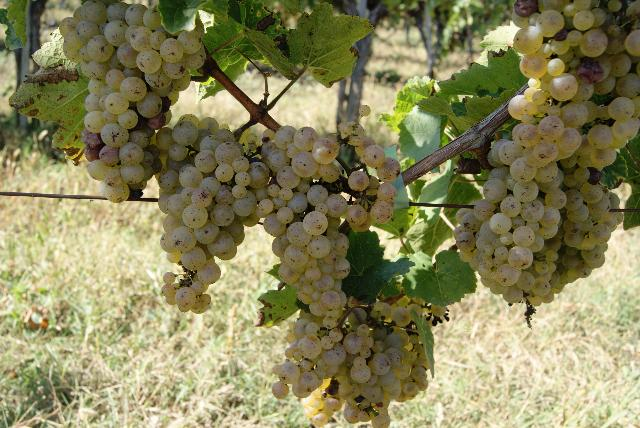grapes: (235, 122, 395, 306), (60, 0, 205, 201), (491, 0, 640, 189), (156, 115, 280, 314), (459, 141, 568, 294), (272, 332, 429, 428), (529, 155, 621, 294), (498, 190, 499, 191)
